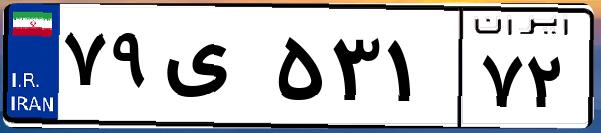1: (385, 28, 445, 110)
2: (525, 38, 570, 115)
3: (330, 28, 385, 110)
5: (270, 28, 330, 110)
7: (57, 26, 110, 100), (475, 38, 525, 113)
9: (110, 28, 158, 98)
ی: (158, 20, 270, 120)
